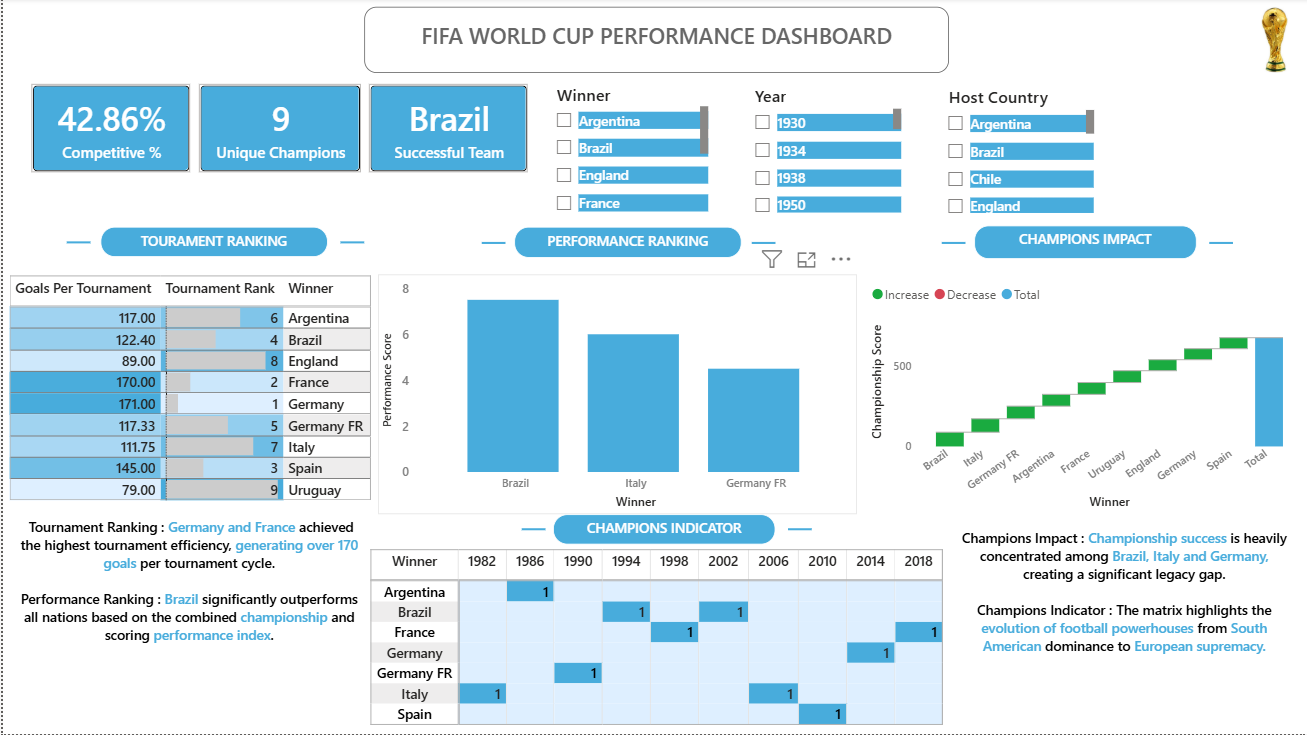

What the dashboard file says about the page in this screenshot:
{"tool":"powerbi","page":{"name":"PERFORMANCE ANALYSIS","canvas":[1280,720],"ordinal":1},"visuals":[{"type":"textbox","box":[353.9,8.6,572.3,64.8],"z":0},{"type":"cardVisual","fields":{"Data":["key measure 2.Most Successful Team"]},"box":[341.7,67.2,189.4,120.8],"z":1000},{"type":"cardVisual","fields":{"Data":["key measure 2.Unique Champions"]},"box":[175,67.2,192.1,120.8],"z":2000},{"type":"cardVisual","fields":{"Data":["key measure 2.Competitive Balance %"]},"box":[11,67.2,189.4,120.8],"z":3000},{"type":"image","box":[1220.4,8.6,47.7,64.8],"z":4000},{"type":"textbox","box":[95.4,223.8,222.6,29.3],"z":5000},{"type":"shape","box":[62.4,217.7,23.2,42.8],"z":6000},{"type":"shape","box":[330.2,217.7,23.2,42.8],"z":7000},{"type":"textbox","box":[500.1,223.8,222.6,30.6],"z":8000},{"type":"shape","box":[1180.1,218.2,23.3,43.9],"z":9000},{"type":"shape","box":[918,218.2,23.3,43.9],"z":10000},{"type":"textbox","box":[11,505,342.4,206.7],"z":11000},{"type":"textbox","box":[925.7,513.6,342.4,206],"z":12000},{"type":"tableEx","fields":{"Values":["key measure 2.Goals Per Tournament","key measure 2.Tournament Rank","world_cups.Winner"]},"box":[0,266.2,366.4,234.6],"z":13000},{"type":"pivotTable","fields":{"Rows":["world_cups.Winner"],"Columns":["world_cups.Year"],"Values":["key measure 2.Champion Indicator"]},"box":[354,533.8,575,186.6],"z":14000},{"type":"clusteredColumnChart","fields":{"Y":["key measure 2.Performance Score"],"Category":["world_cups.Winner"]},"box":[366.4,270.3,469.3,234.6],"z":15000},{"type":"slicer","fields":{"Values":["world_cups.Winner"]},"box":[531,79.6,161.9,135.8],"z":16000},{"type":"slicer","fields":{"Values":["world_cups.Year"]},"box":[722.2,79.6,161,135],"z":17000},{"type":"slicer","fields":{"Values":["world_cups.Host Country"]},"box":[912.5,81,160.5,134.5],"z":18000},{"type":"waterfallChart","fields":{"Category":["world_cups.Winner"],"Y":["key measure 2.Championship Score"]},"box":[845.3,270.3,426.8,234.6],"z":19000},{"type":"shape","box":[467.9,218.2,23.3,43.9],"z":20000},{"type":"shape","box":[732.8,218.2,23.3,43.9],"z":21000},{"type":"textbox","box":[538,505,217.7,29.3],"z":22000},{"type":"shape","box":[507.5,497.7,23.2,44],"z":23000},{"type":"shape","box":[767.9,497.7,23.2,44],"z":24000},{"type":"textbox","box":[950.1,222.6,217.7,33],"z":25000}]}

Visuals, with their boxes in screenshot pixels (x1, y1, x2, y2), scaled from the page's 1280x720 canvas onto the 1307x735 screenshot:
textbox: [left=361, top=9, right=946, bottom=75]
cardVisual - key measure 2.Most Successful Team: [left=349, top=69, right=542, bottom=192]
cardVisual - key measure 2.Unique Champions: [left=179, top=69, right=375, bottom=192]
cardVisual - key measure 2.Competitive Balance %: [left=11, top=69, right=205, bottom=192]
image: [left=1246, top=9, right=1295, bottom=75]
textbox: [left=97, top=228, right=325, bottom=258]
shape: [left=64, top=222, right=87, bottom=266]
shape: [left=337, top=222, right=361, bottom=266]
textbox: [left=511, top=228, right=738, bottom=260]
shape: [left=1205, top=223, right=1229, bottom=268]
shape: [left=937, top=223, right=961, bottom=268]
textbox: [left=11, top=516, right=361, bottom=727]
textbox: [left=945, top=524, right=1295, bottom=734]
tableEx - key measure 2.Goals Per Tournament x key measure 2.Tournament Rank: [left=0, top=272, right=374, bottom=511]
pivotTable - world_cups.Winner x world_cups.Year: [left=361, top=545, right=949, bottom=734]
clusteredColumnChart - key measure 2.Performance Score x world_cups.Winner: [left=374, top=276, right=853, bottom=515]
slicer - world_cups.Winner: [left=542, top=81, right=708, bottom=220]
slicer - world_cups.Year: [left=737, top=81, right=902, bottom=219]
slicer - world_cups.Host Country: [left=932, top=83, right=1096, bottom=220]
waterfallChart - world_cups.Winner x key measure 2.Championship Score: [left=863, top=276, right=1299, bottom=515]
shape: [left=478, top=223, right=502, bottom=268]
shape: [left=748, top=223, right=772, bottom=268]
textbox: [left=549, top=516, right=772, bottom=545]
shape: [left=518, top=508, right=542, bottom=553]
shape: [left=784, top=508, right=808, bottom=553]
textbox: [left=970, top=227, right=1192, bottom=261]
